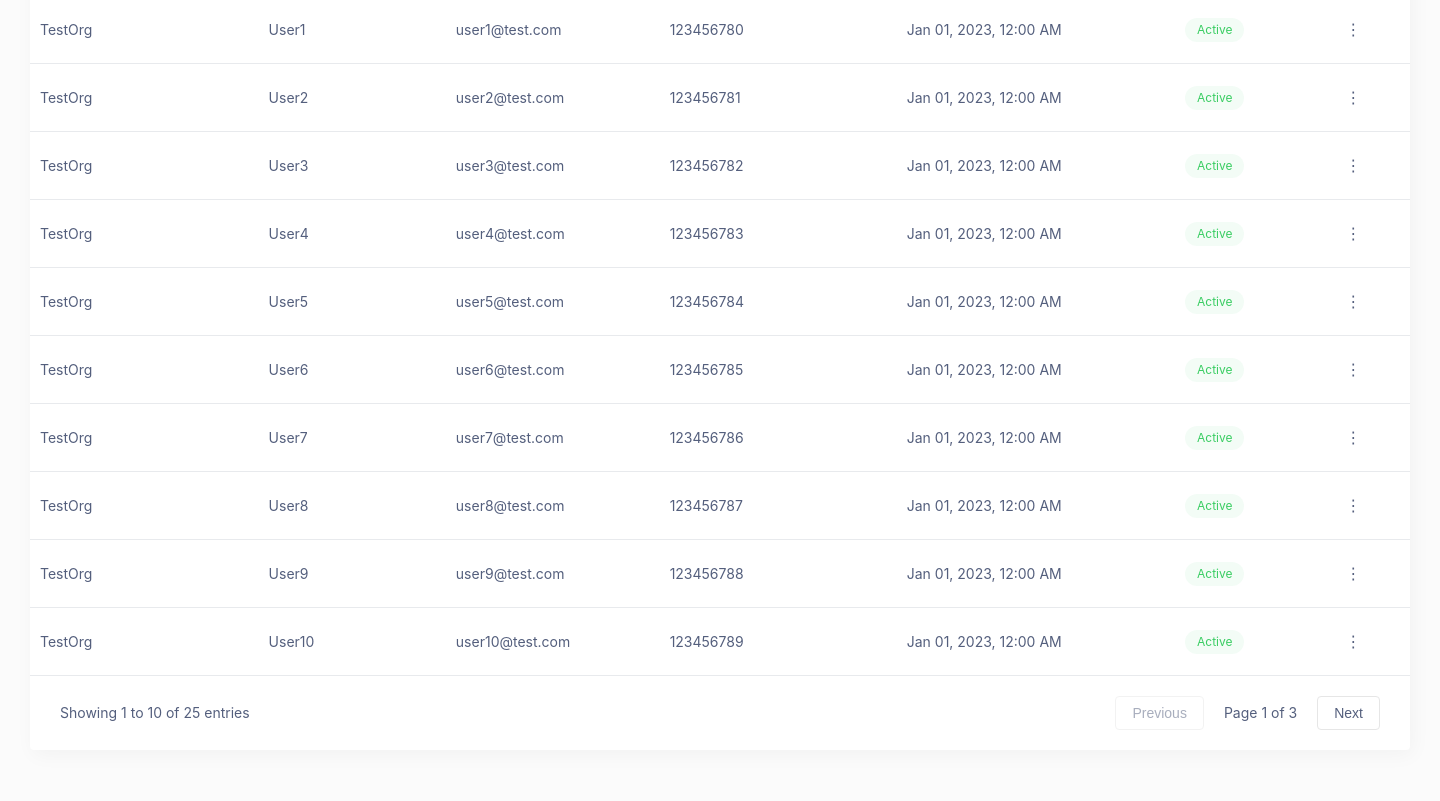
Dashboard › paginates through user data
(page scrolled)
expect the text "User11" is not shown: met
Click the button with aria-label "next page" at (1349, 713), box [1317, 696, 1380, 730]
(page scrolled)
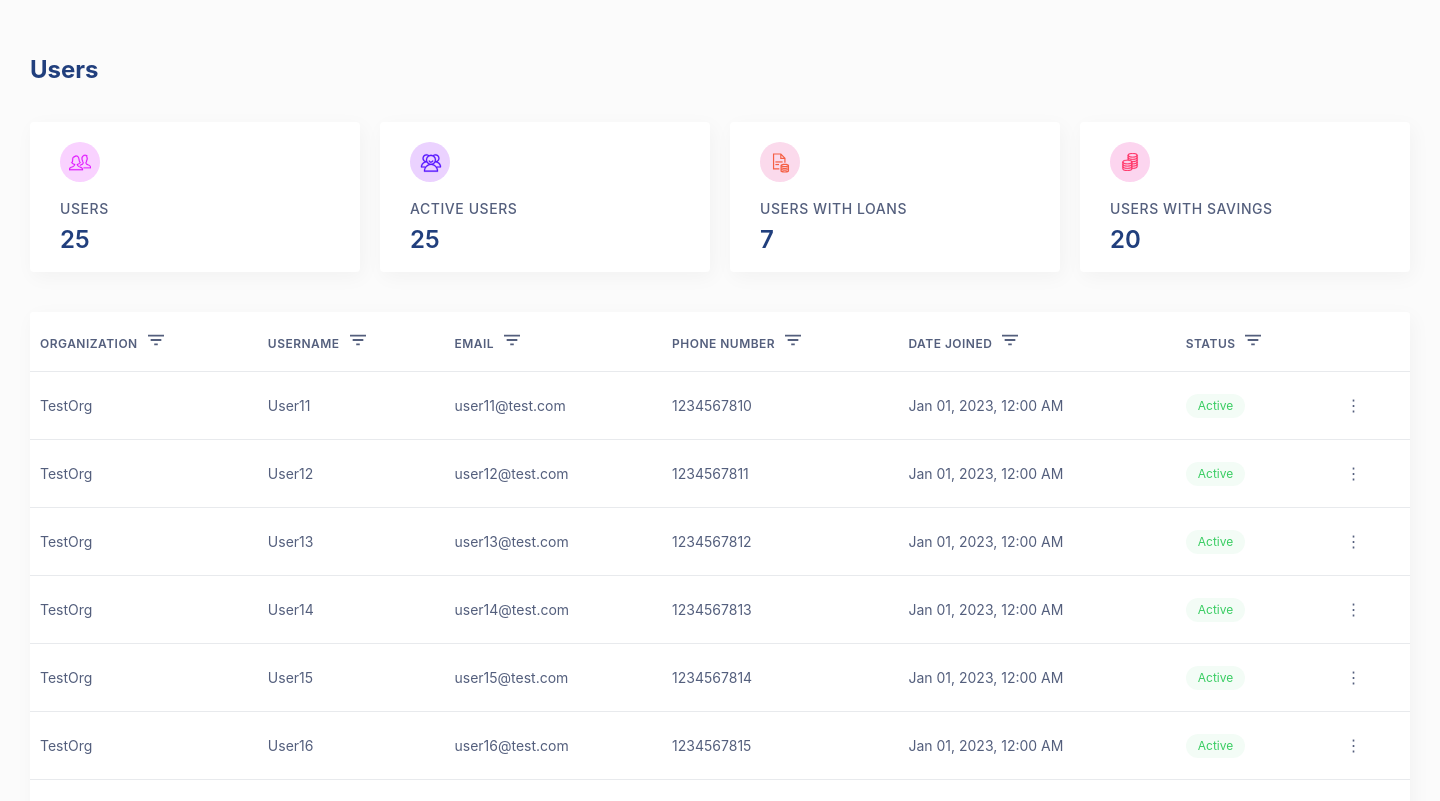
expect the text "User11" is shown: met, box [258, 372, 444, 440]
